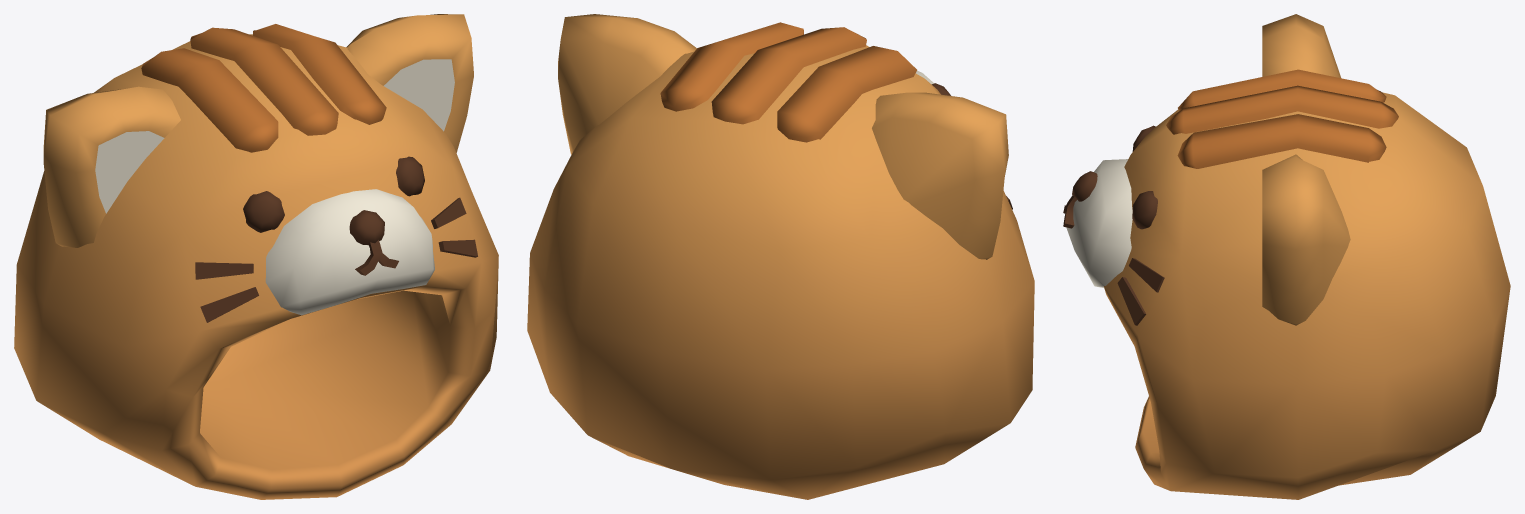
Rendered from Headgear_35.fbx.
3 renders of one model, left to right at view 1: azimuth 30°, elevation 25°; view 2: azimuth 150°, elevation 25°; view 3: azimuth 270°, elevation 25°, orthographic. The views are drawn at different scales.
Parts seen in each view (by area): view 1: Headgear_35; view 2: Headgear_35; view 3: Headgear_35.
Boxes of the visible parts, x1,y1,x2,y2 form: Headgear_35: (14, 14, 498, 499); Headgear_35: (527, 14, 1034, 499); Headgear_35: (1063, 14, 1510, 499).
Size of the model in its own units: 72 by 63.69 by 67.21.
